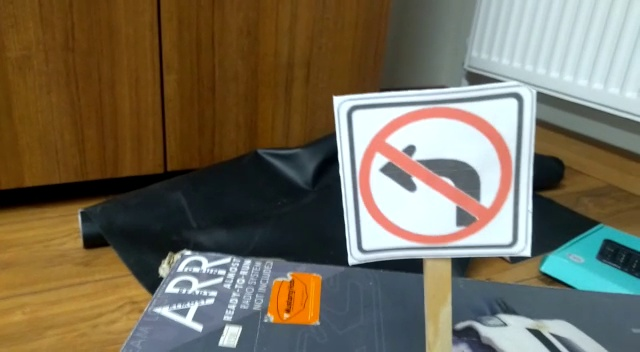sola_donulmez: (349, 95, 517, 263)
